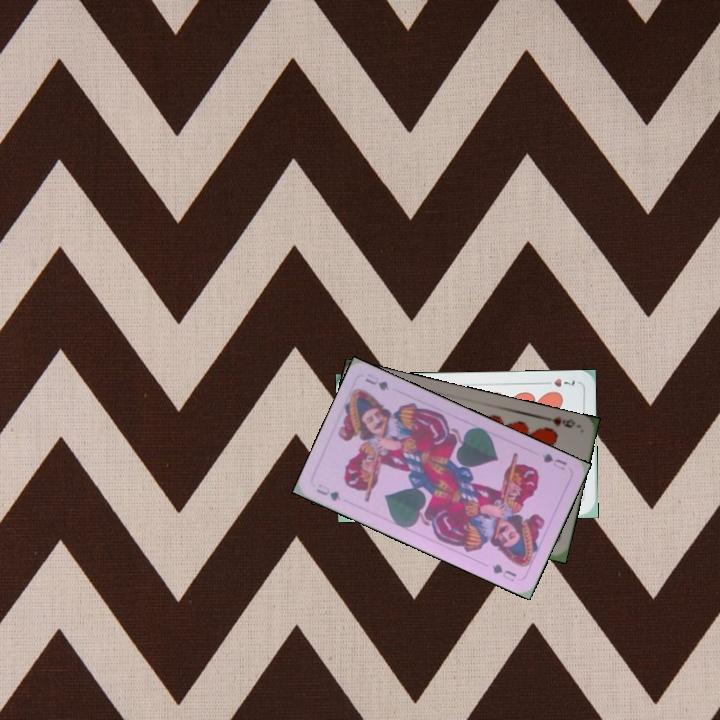GU: (538, 449, 570, 473), (312, 480, 343, 504)
H7: (539, 374, 578, 390)
H9: (541, 412, 581, 431)
